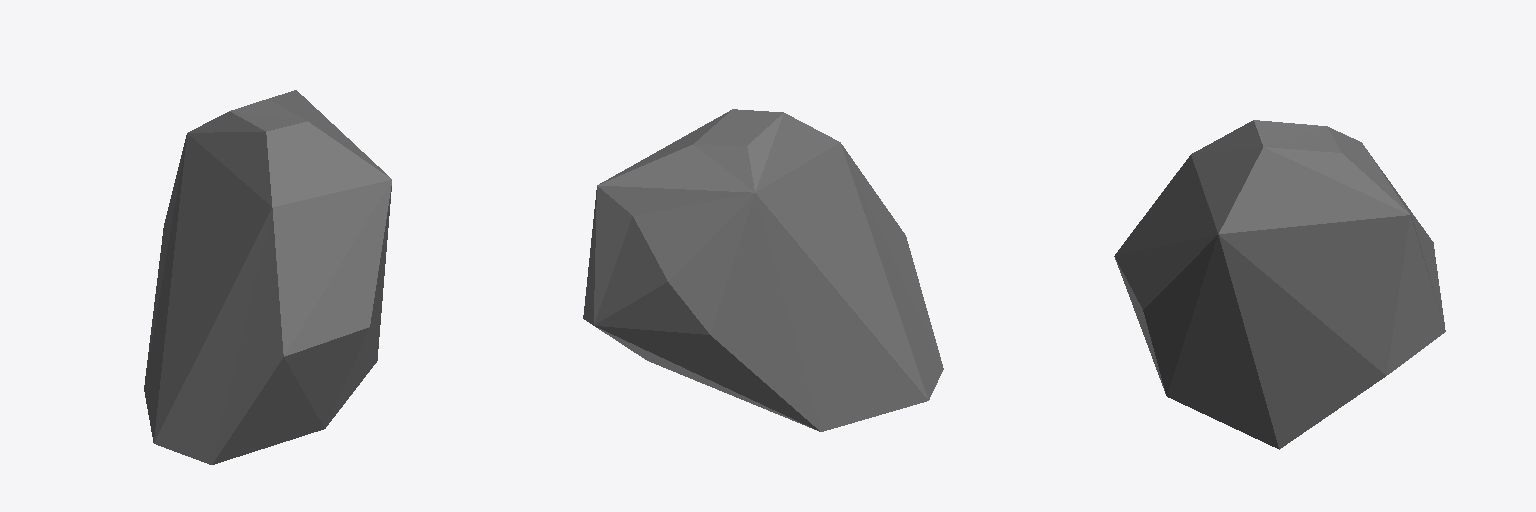
File: Rock1.obj
The picture shows the model from 3 angles: view 1: azimuth 30°, elevation 25°; view 2: azimuth 150°, elevation 25°; view 3: azimuth 270°, elevation 25°; orthographic projection.
Parts seen in each view (by area): view 1: pCube1; view 2: pCube1; view 3: pCube1.
Part boxes in pixels (x1,y1,x2,y2): pCube1: (144, 90, 391, 464); pCube1: (583, 109, 943, 431); pCube1: (1114, 120, 1445, 449).
Bounding box in the file's own units: 2.83 × 2.77 × 3.09.